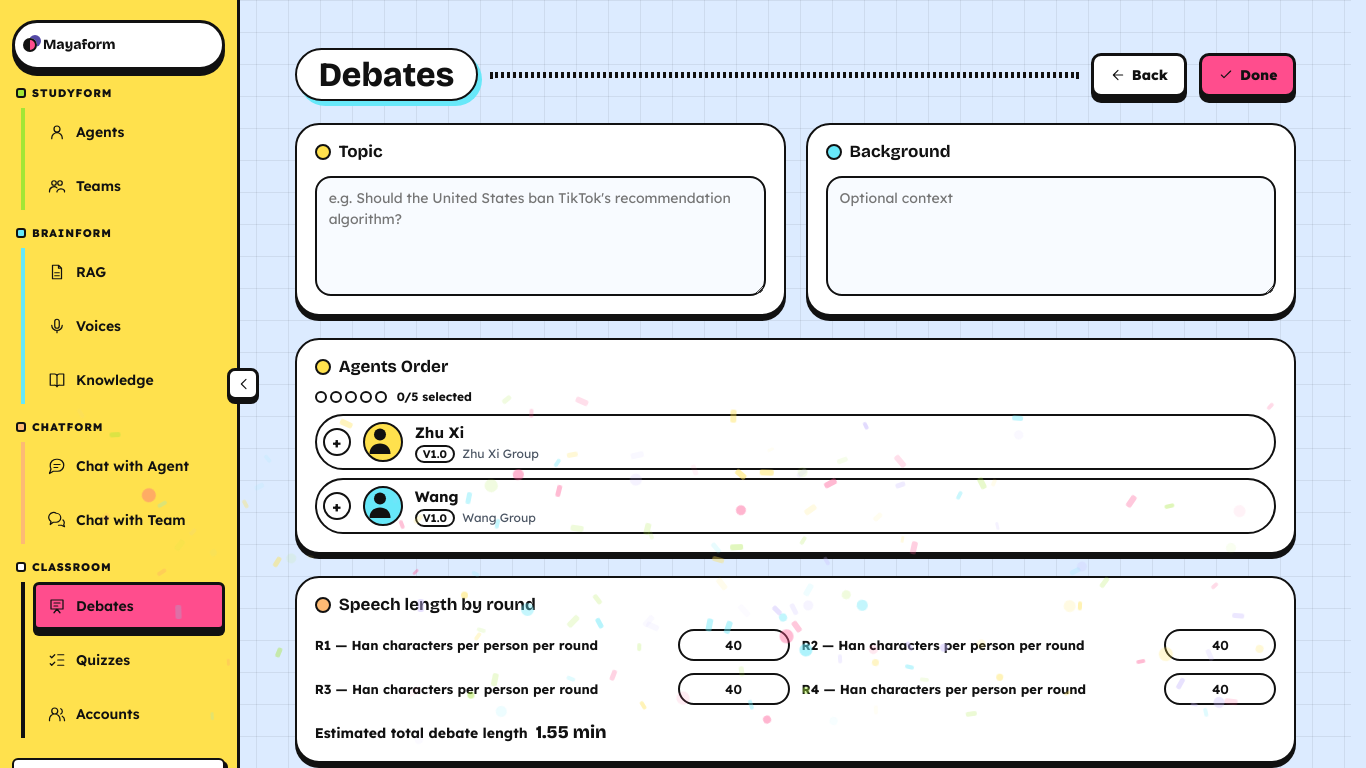
Test: Debate create names every Agent problem › shows a refusal in the same bar, names the Agent, and reads the list again
The image size is (1366, 768).
Click the button "+ Zhu Xi V1.0 Zhu Xi Group": x=383, y=442 [323,422,1260,462]
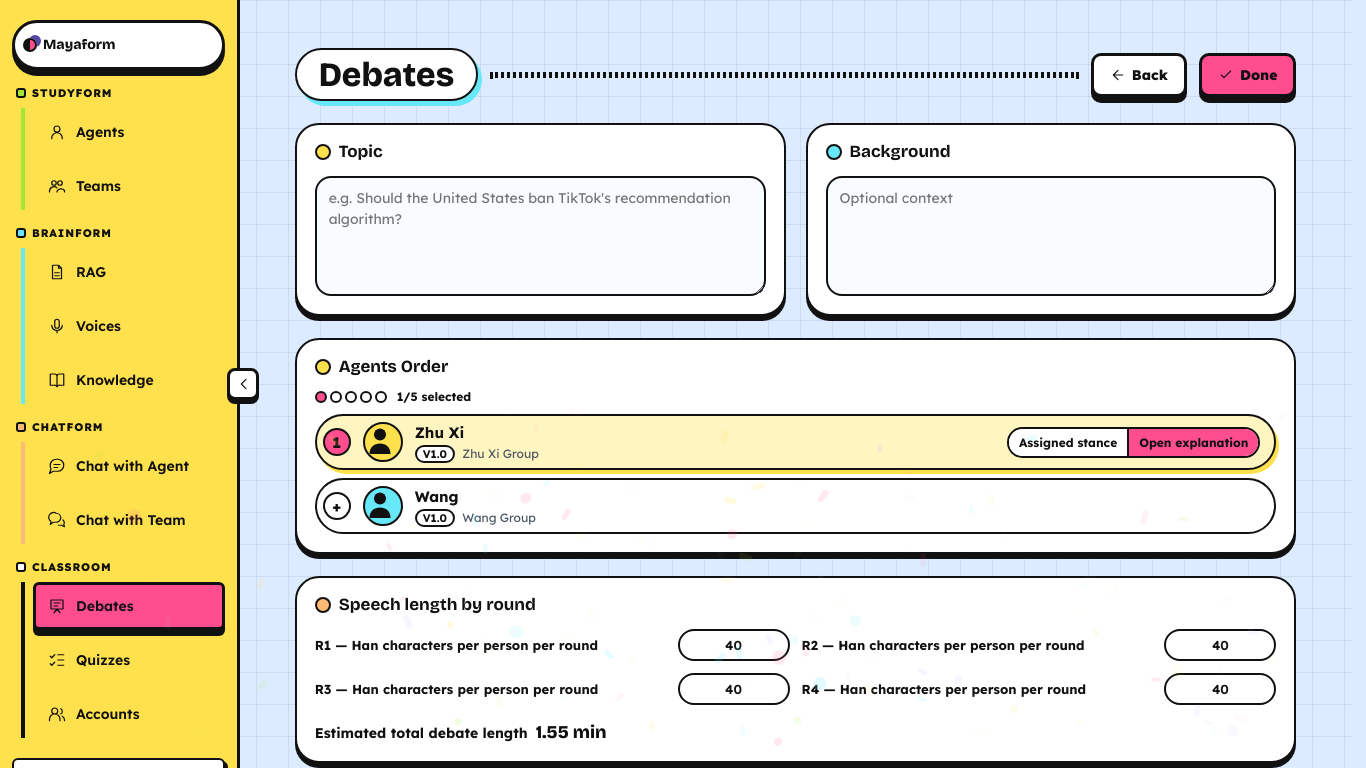
Click the button "+ Wang V1.0 Wang Group": x=383, y=506 [323,486,1260,526]
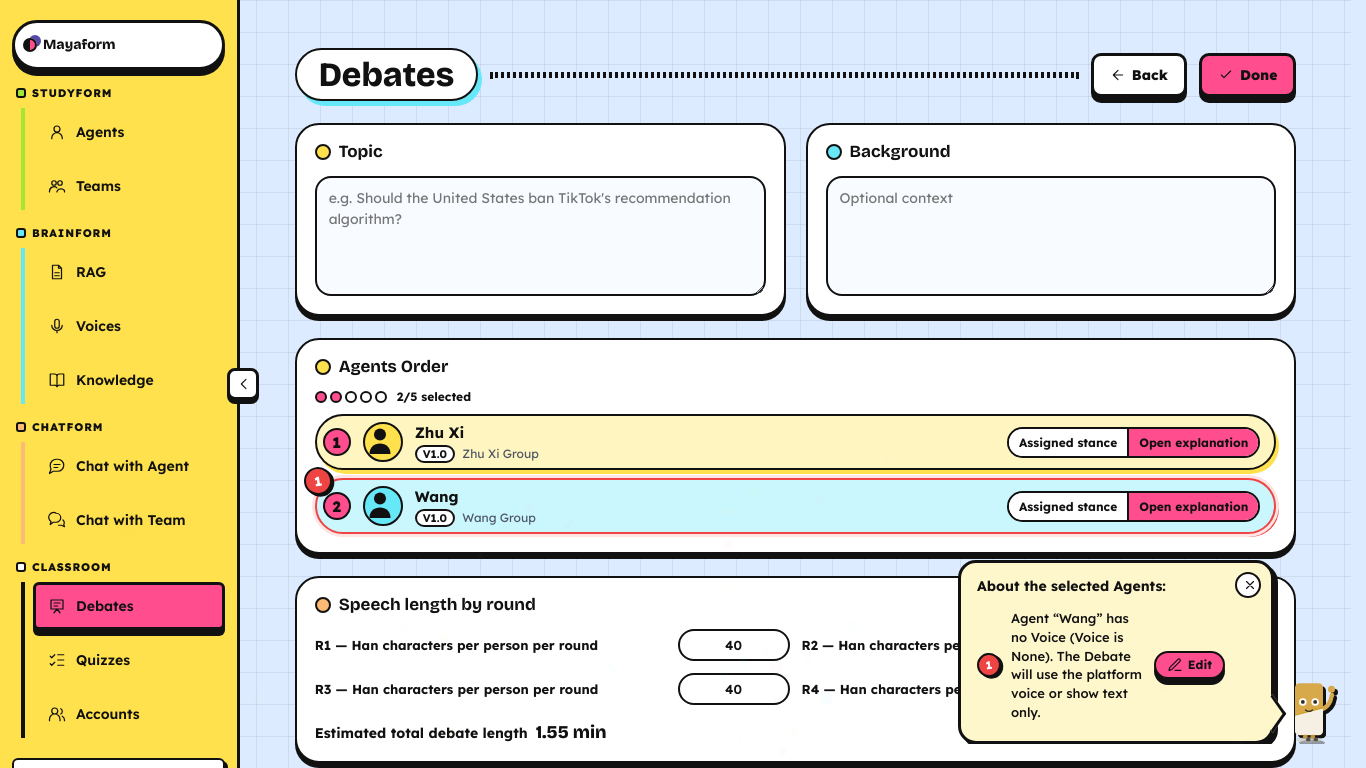
Replace the text in the text box named "Topic" with "How should we learn?": x=540, y=236 [315,176,766,296]
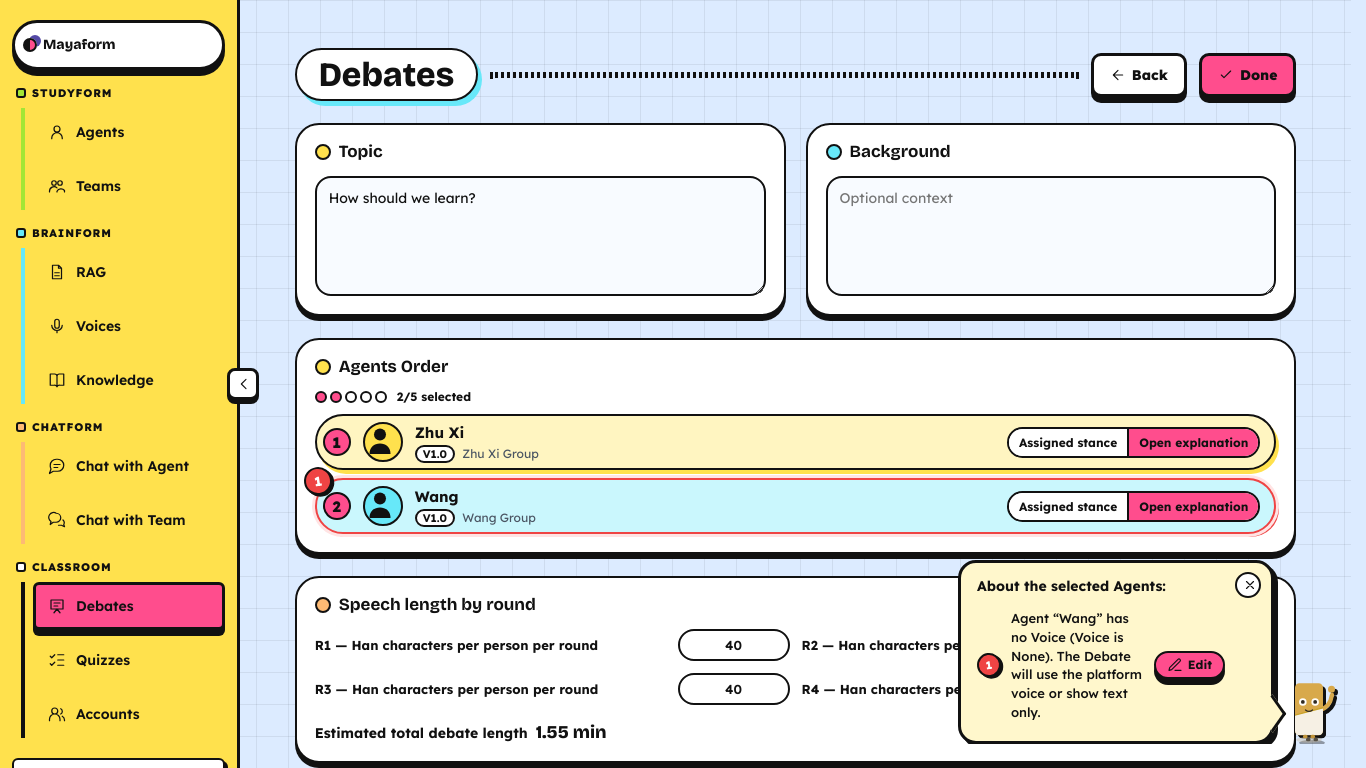
Click the button "Done": x=1248, y=74 [1199,52,1296,96]
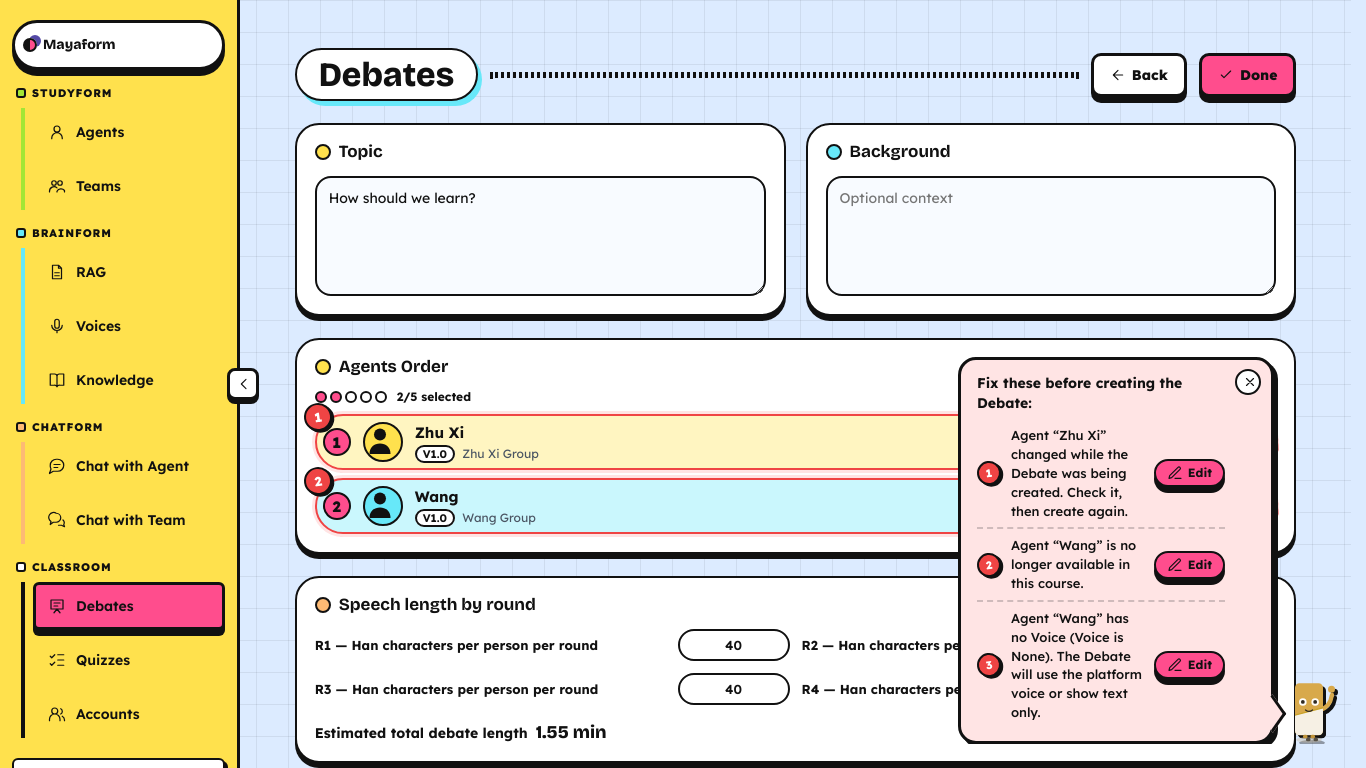
Check: the message with class "agent-hint-bar" shows "Agent “Zhu Xi” changed while the Debate was being created.", box [1011,427,1128,519]
Check: the message with class "agent-hint-bar" shows "Agent “Wang” is no longer available in this course.", box [1011,537,1136,591]
Check: the number of messages with class "agent-hint-bar" is 1, box [958,357,1274,744]
